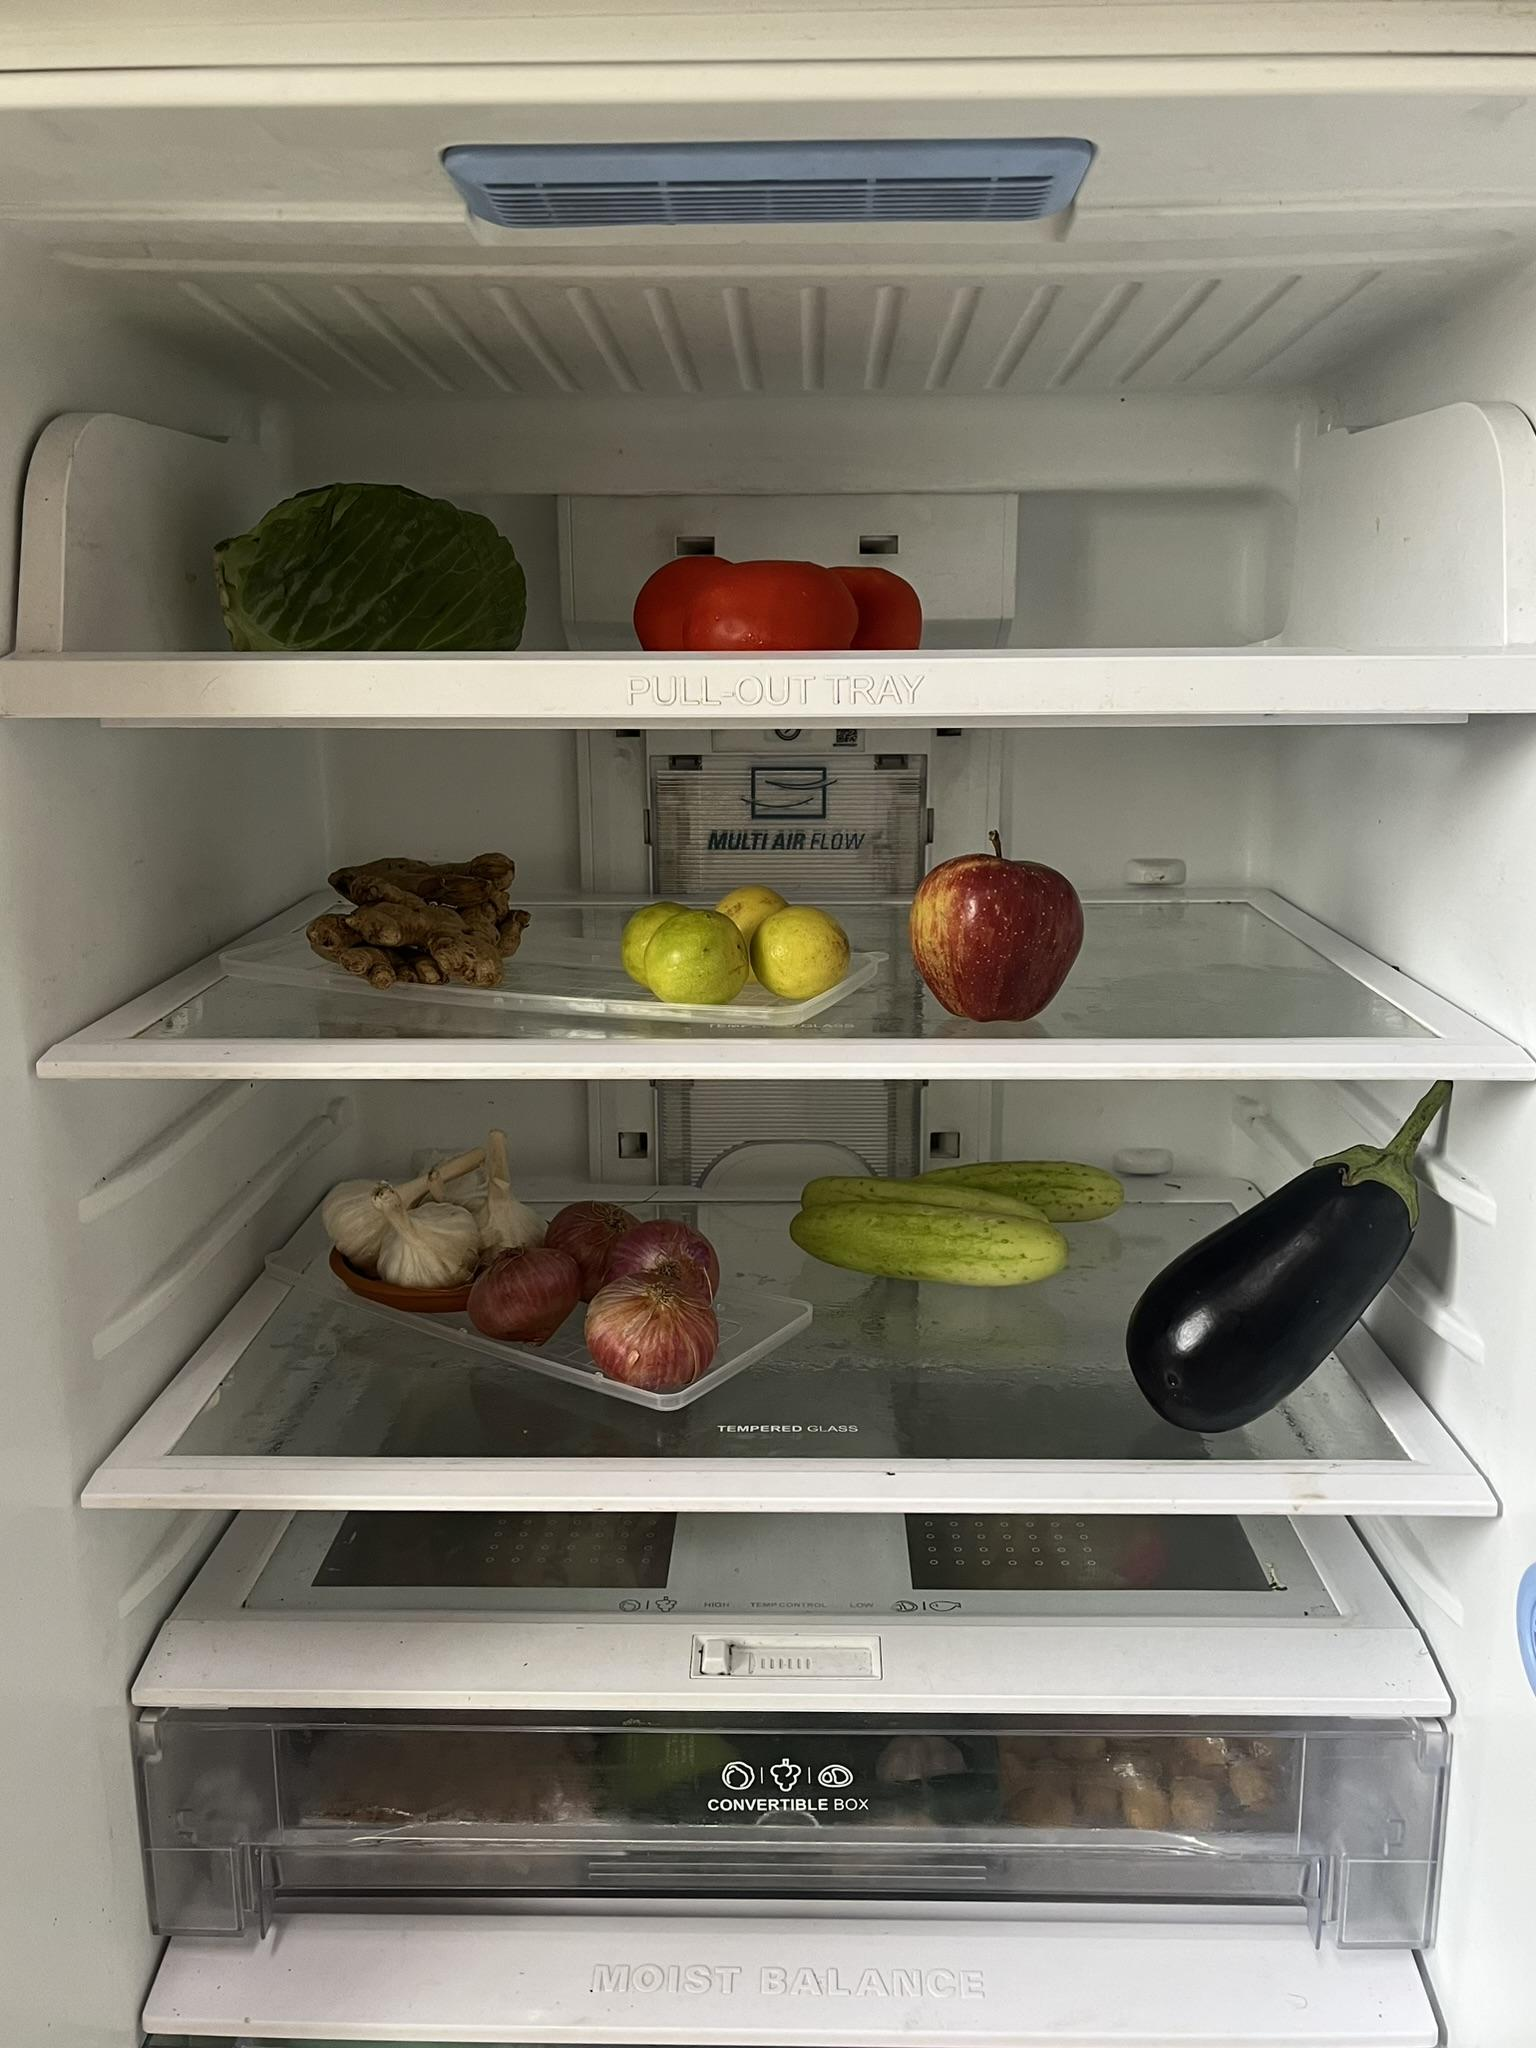apple: (920, 843, 1091, 1021)
bringal: (1120, 1077, 1460, 1430)
cabbage: (187, 469, 541, 650)
cucumber: (794, 1156, 1129, 1290)
garlic: (331, 1147, 544, 1284)
ginger: (319, 850, 529, 980)
lemon: (620, 887, 850, 997)
onion: (473, 1197, 707, 1387)
tomato: (641, 553, 923, 650)
